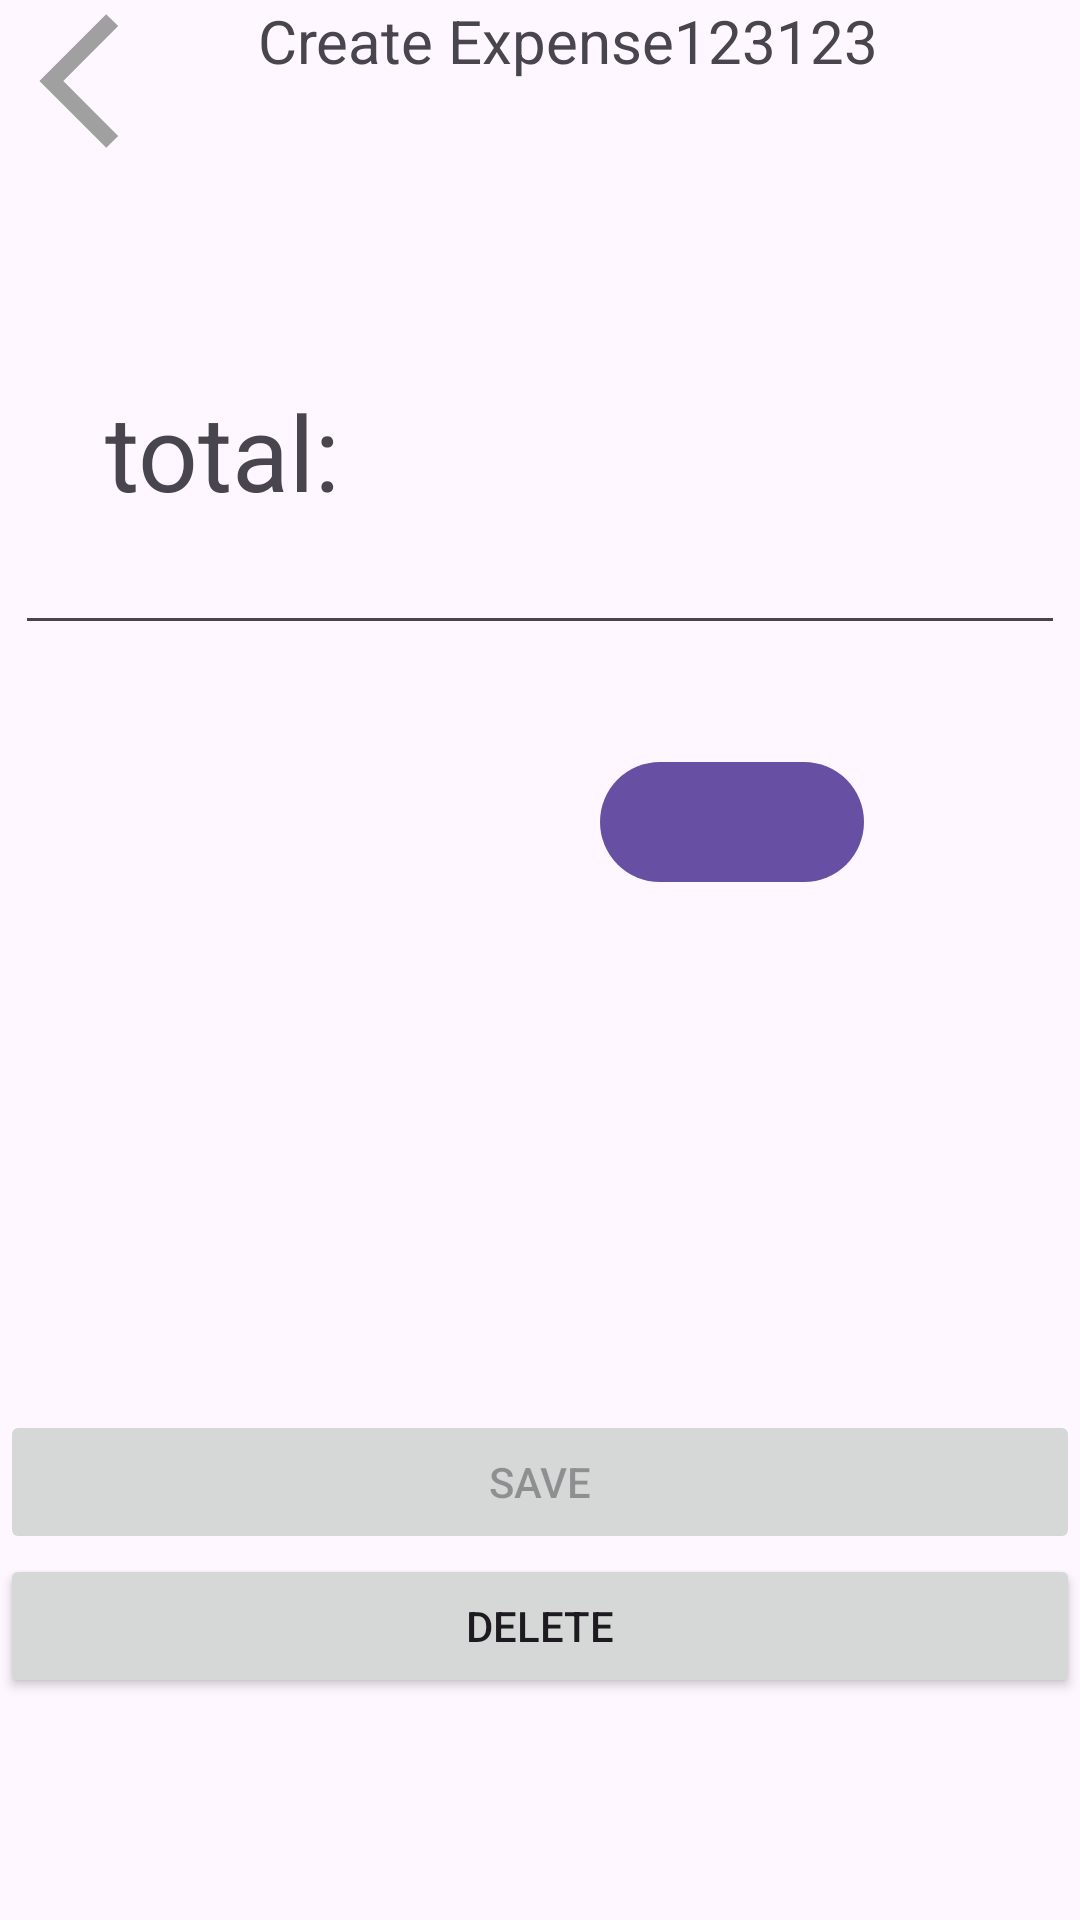

Screen size 1080x1920. Icon name, then its center in pixels as point (x, y):
arrow back: point (79, 81)
